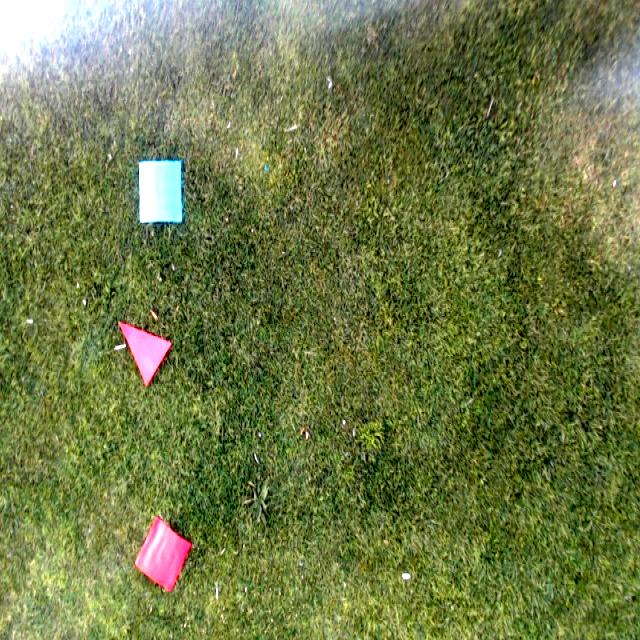blue_square: (137, 160, 184, 226)
red_square: (137, 518, 190, 589)
red_triangle: (119, 319, 171, 383)
